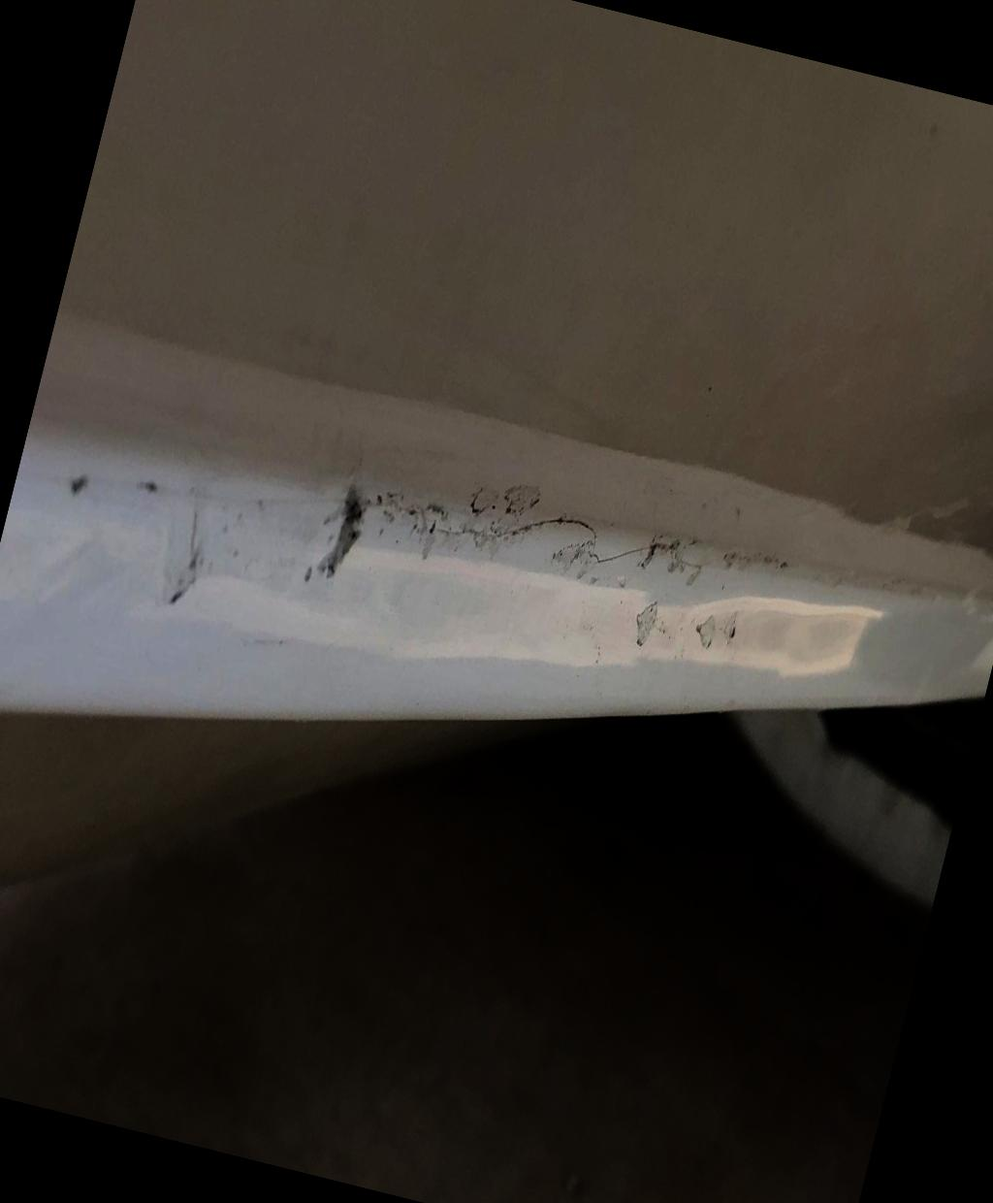crack: (337, 439, 827, 655)
